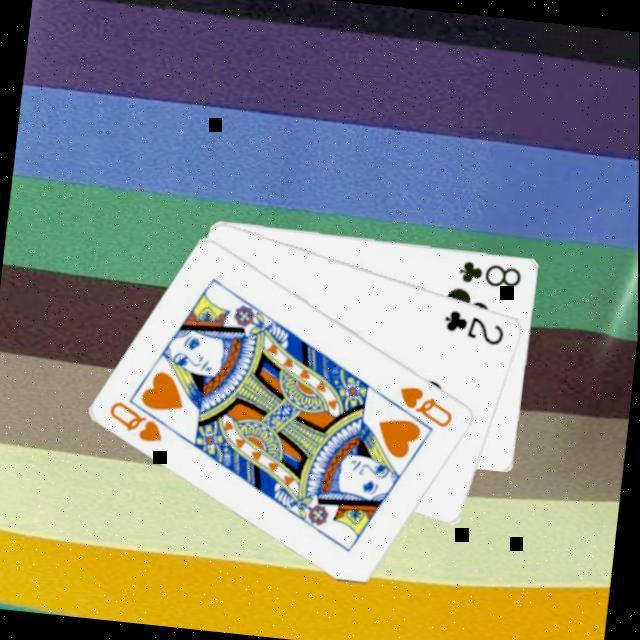2C: (441, 306, 512, 351)
8C: (457, 258, 528, 293)
QH: (105, 394, 186, 449), (395, 383, 461, 433)
